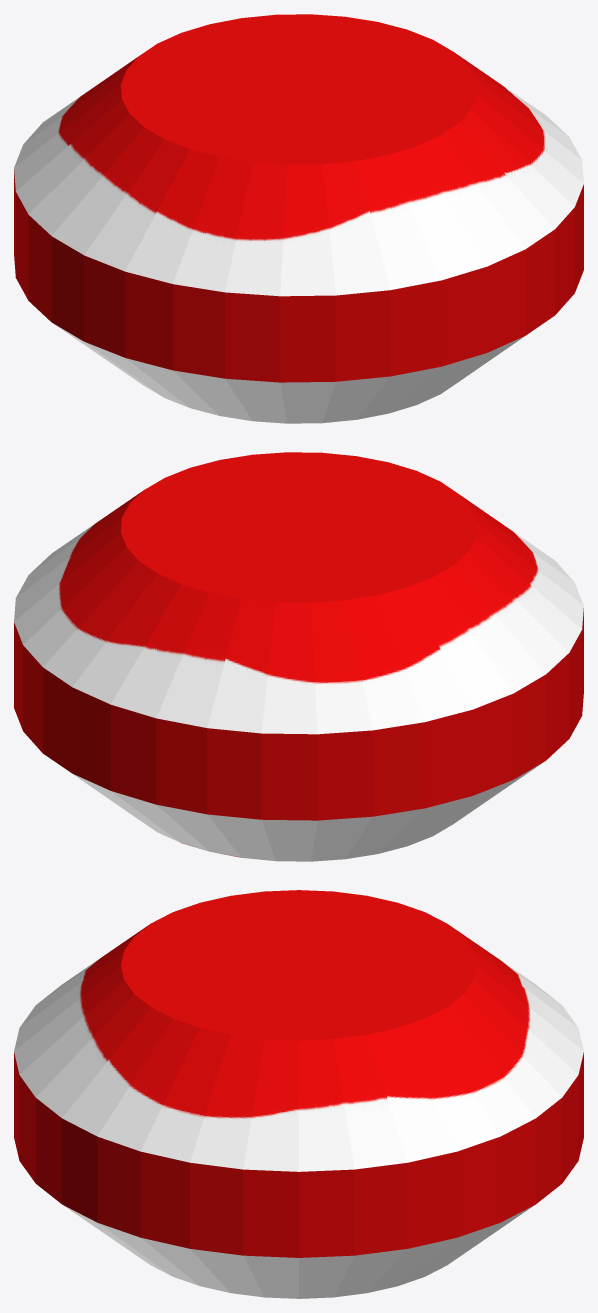
File: tri_jpMushroom.obj
The picture shows the model from 3 angles, top to bottom: view 1: azimuth 30°, elevation 25°; view 2: azimuth 150°, elevation 25°; view 3: azimuth 270°, elevation 25°; orthographic projection.
Visible parts, largest first — view 1: Cylinder; view 2: Cylinder; view 3: Cylinder.
Part boxes in pixels (box(x1,y1,x2,y2)): Cylinder: box(14, 14, 583, 423); Cylinder: box(14, 452, 583, 861); Cylinder: box(14, 890, 583, 1298).
Size of the model in its own units: 0.8 by 0.4 by 0.8.
Materials: 1 (1 with a texture image).
